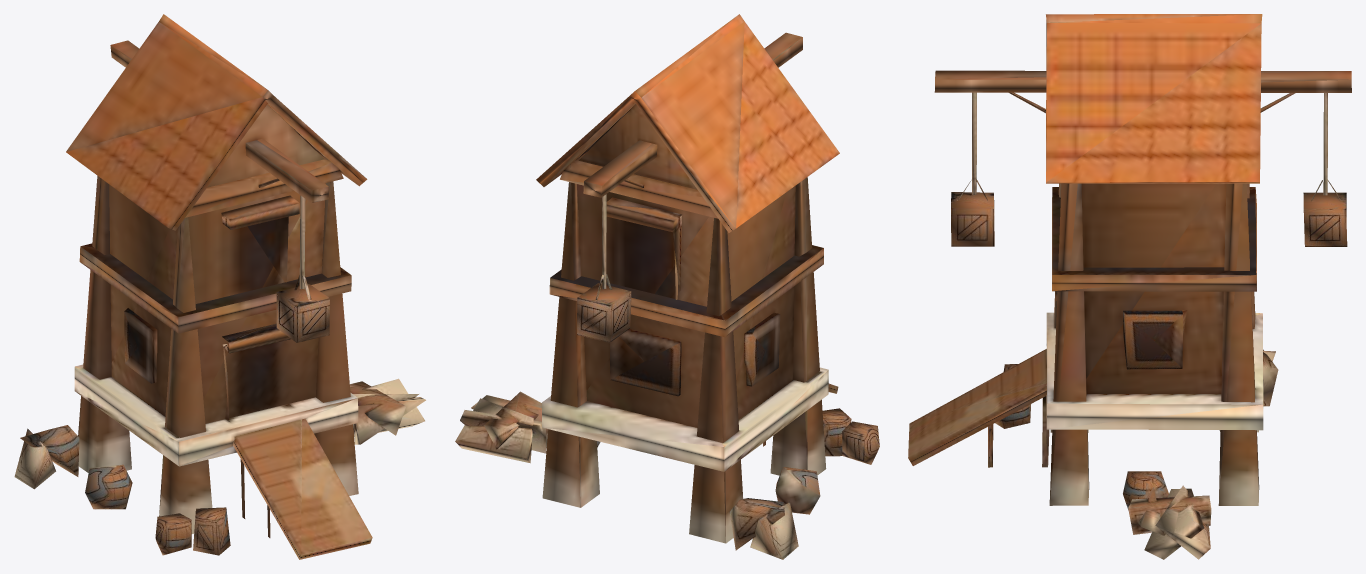
The model's file is supply33.2.glb.
3 renders of one model, left to right at view 1: azimuth 30°, elevation 25°; view 2: azimuth 150°, elevation 25°; view 3: azimuth 270°, elevation 25°, orthographic. The views are drawn at different scales.
Parts seen in each view (by area): view 1: supply33; view 2: supply33; view 3: supply33.
Part boxes in pixels (left/top/right/bottom): supply33: left=14, top=14, right=425, bottom=559; supply33: left=455, top=14, right=879, bottom=559; supply33: left=908, top=14, right=1351, bottom=559.
Size of the model in its own units: 2.81 by 3.21 by 2.9.
1 material, 1 textured.
